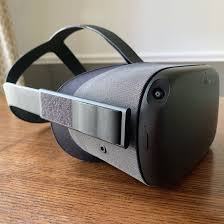oculus: (55, 61, 220, 192)
